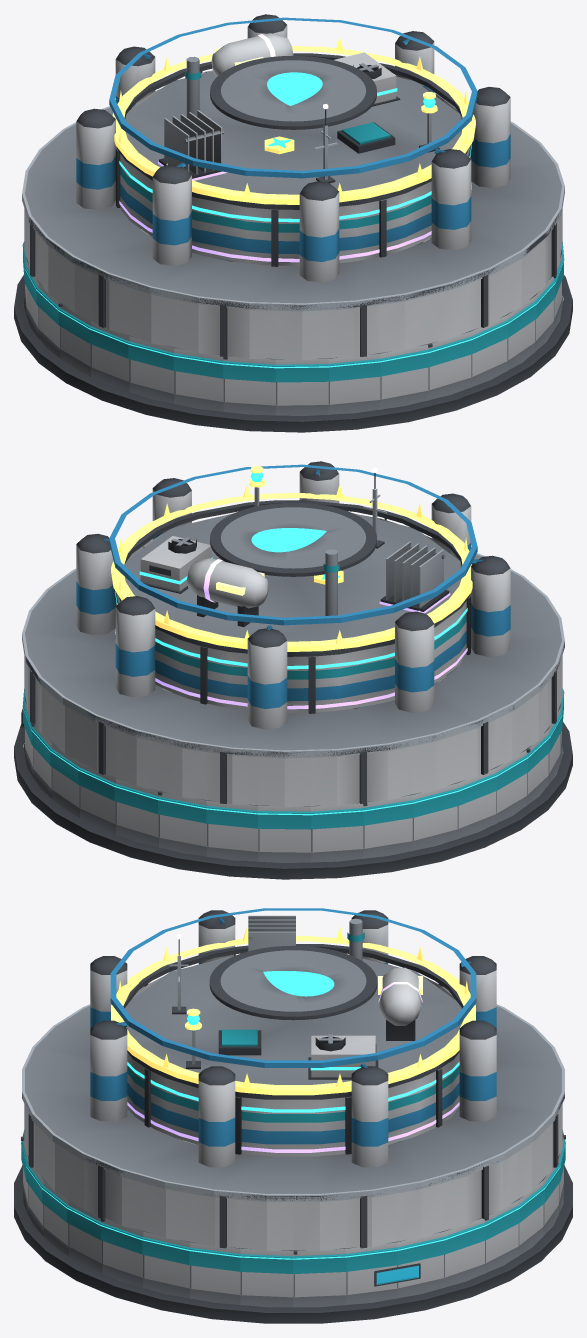
Rendered from water_recycler_m.glb.
3 views of the same model, one above another, from view 1: azimuth 30°, elevation 25°; view 2: azimuth 150°, elevation 25°; view 3: azimuth 270°, elevation 25° (orthographic).
Parts seen in each view (by area): view 1: Roof, Base, L5, L4, Wall_21, Wall_20, Wall_22, Wall_19, Upper_20, Wall_23, Upper_21, Upper_22 (+24 smaller); view 2: Roof, Base, L4, L5, L3, Wall_10, Wall_11, Wall_09, Wall_12, Wall_08, Upper_11, Upper_10 (+23 smaller); view 3: Roof, Base, L5, L4, L3, Wall_00, Wall_31, Wall_30, Upper_31, Upper_00, Wall_29, Wall_01 (+23 smaller).
Boxes of the visible parts, x1,y1,x2,y2 form: Roof: (25,14,561,303); Base: (14,220,572,432); L5: (112,37,475,204); L4: (119,33,471,262); Wall_21: (275,358,328,416); Wall_20: (223,355,275,415); Wall_22: (328,353,380,414); Wall_19: (173,347,223,411); Upper_20: (223,301,275,359); Wall_23: (380,344,428,409); Upper_21: (276,304,328,360); Upper_22: (328,299,380,358); Roof: (25,461,561,750); Base: (14,667,572,879); L4: (115,541,467,709); L5: (111,466,472,651); L3: (115,536,467,669); Wall_10: (258,805,311,863); Wall_11: (311,802,363,862); Wall_09: (206,800,258,861); Wall_12: (363,794,413,858); Wall_08: (158,791,206,856); Upper_11: (311,748,363,806); Upper_10: (258,751,310,807); Roof: (25,908,561,1193); Base: (14,1107,572,1323); L5: (111,927,475,1095); L4: (127,915,459,1152); L3: (127,1034,459,1112); Wall_00: (293,1248,346,1307); Wall_31: (240,1248,293,1307); Wall_30: (189,1242,240,1304); Upper_31: (241,1194,293,1250); Upper_00: (293,1195,345,1250); Wall_29: (142,1231,190,1298); Wall_01: (346,1242,397,1304).
Bounding box in the file's own units: 11.74 × 5.99 × 11.74.
